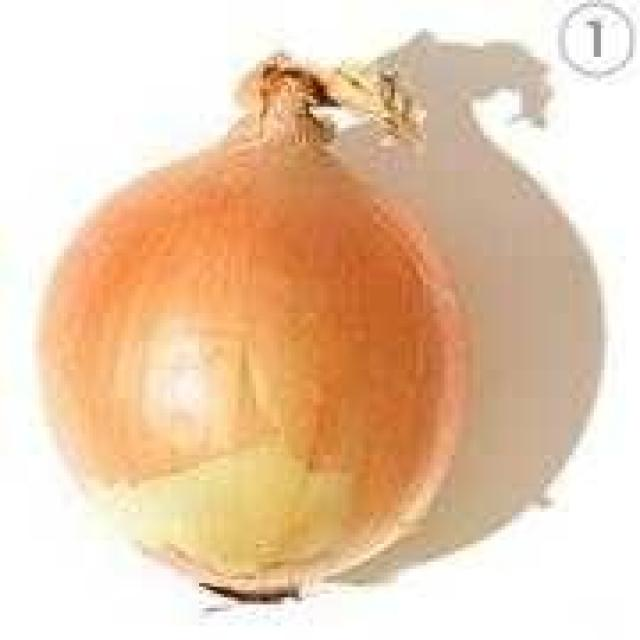onion: (32, 50, 473, 604)
